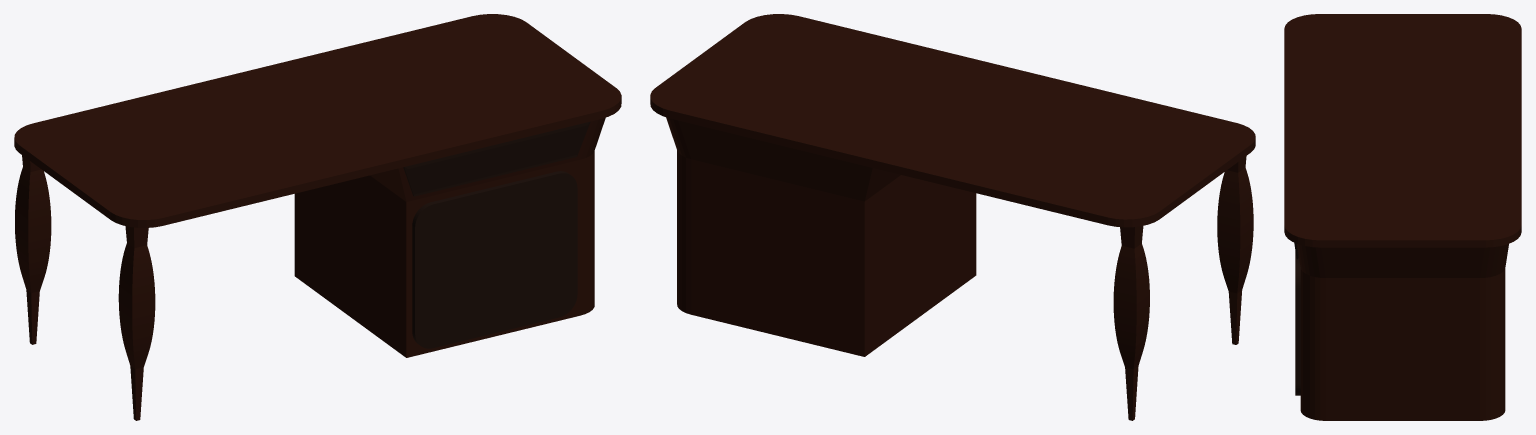
File: coffee_table_with_drawers.fbx
The picture shows the model from 3 angles, left to right: view 1: azimuth 30°, elevation 25°; view 2: azimuth 150°, elevation 25°; view 3: azimuth 270°, elevation 25°; orthographic projection. The views are drawn at different scales.
Visible parts, largest first — view 1: Cube, Cube.004, Cube.001, Cube.002, Cube.003; view 2: Cube, Cube.003, Cube.002; view 3: Cube, Cube.004.
Part boxes in pixels (x1=…): Cube: x1=14, y1=14, x2=621, y2=357; Cube.004: x1=412, y1=171, x2=577, y2=348; Cube.001: x1=403, y1=121, x2=590, y2=196; Cube.002: x1=118, y1=226, x2=155, y2=420; Cube.003: x1=15, y1=155, x2=51, y2=344; Cube: x1=650, y1=14, x2=1255, y2=356; Cube.003: x1=1113, y1=226, x2=1149, y2=420; Cube.002: x1=1217, y1=156, x2=1253, y2=344; Cube: x1=1284, y1=14, x2=1521, y2=420; Cube.004: x1=1295, y1=251, x2=1300, y2=395.
Bounding box in the file's own units: 530 × 209 × 235.
